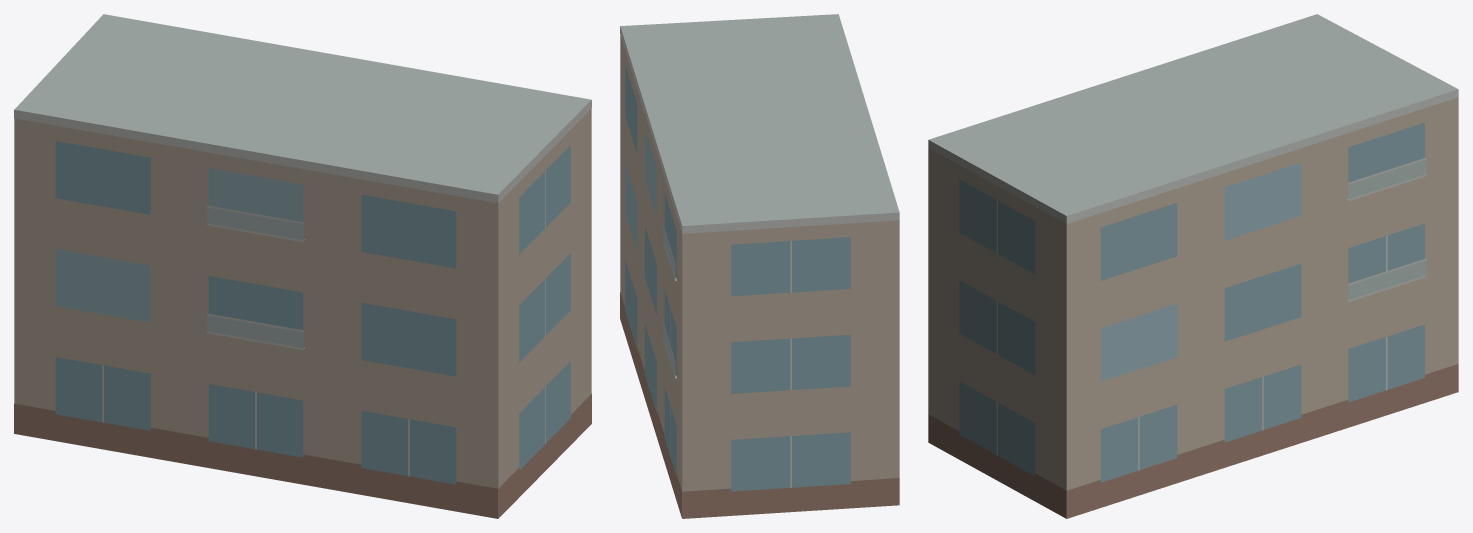
The model's file is survey-upis-32681008.glb.
3 renders of one model, left to right at view 1: azimuth 30°, elevation 25°; view 2: azimuth 150°, elevation 25°; view 3: azimuth 270°, elevation 25°, orthographic. The views are drawn at different scales.
Visible parts, largest first — view 1: survey-upis-32681008.tmp; view 2: survey-upis-32681008.tmp; view 3: survey-upis-32681008.tmp.
Part boxes in pixels (x1,y1,x2,y2): survey-upis-32681008.tmp: (14, 14, 591, 518); survey-upis-32681008.tmp: (620, 14, 899, 518); survey-upis-32681008.tmp: (928, 14, 1458, 518).
Bounding box in the file's own units: 13.11 × 9.15 × 14.54.
